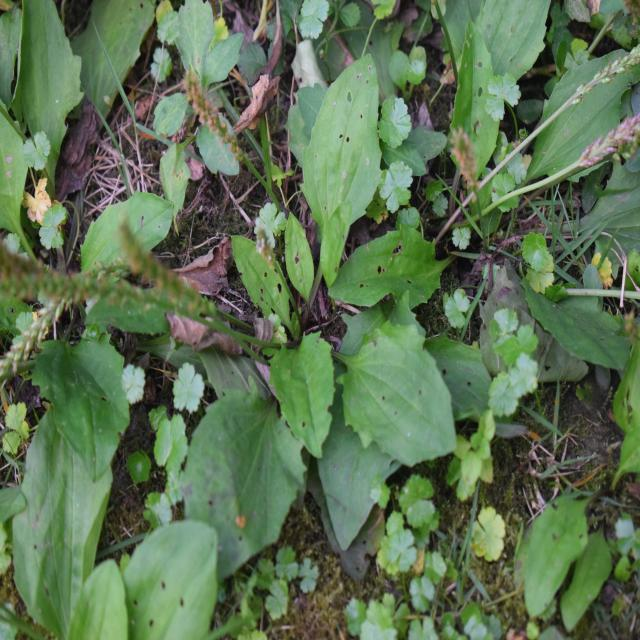plantain: (142, 109, 439, 534)
